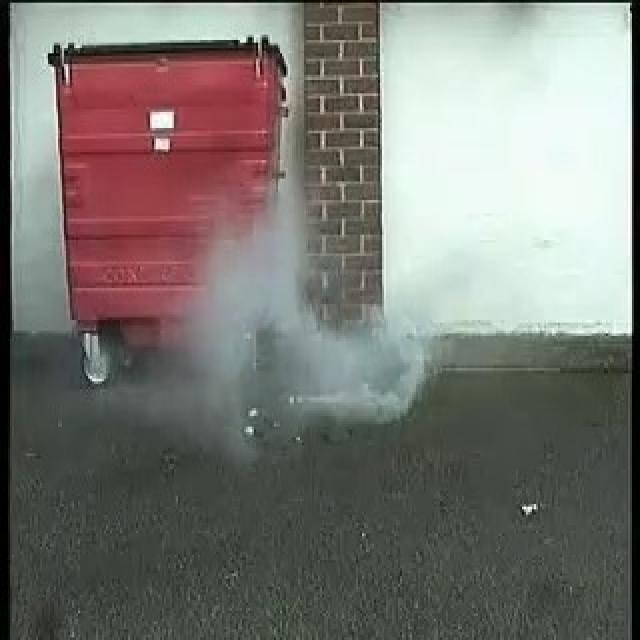smoke: (167, 210, 426, 424)
